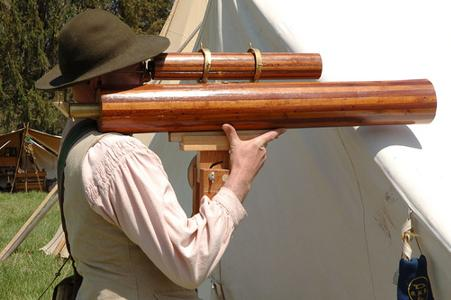person: (40, 9, 285, 299)
